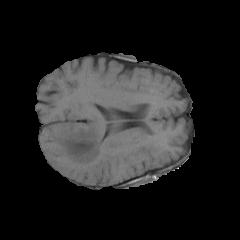glioma: (53, 119, 105, 164)
